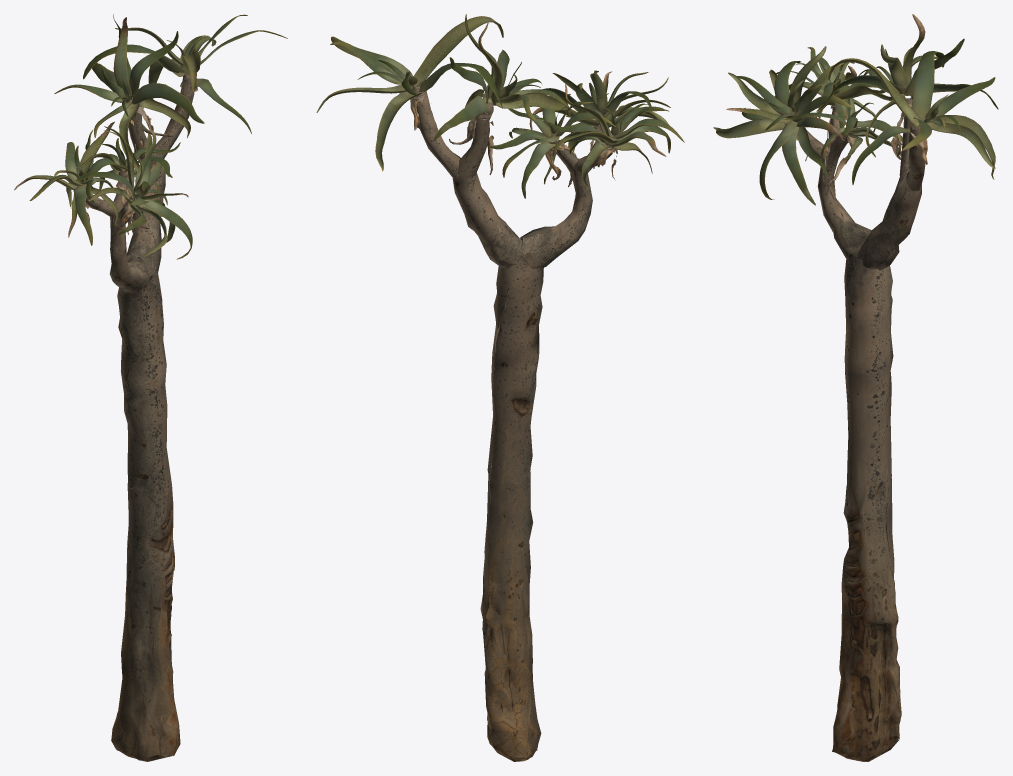
File: quiver_tree_01.glb
The picture shows the model from 3 angles, left to right: view 1: azimuth 30°, elevation 25°; view 2: azimuth 150°, elevation 25°; view 3: azimuth 270°, elevation 25°; orthographic projection. The views are drawn at different scales.
Parts seen in each view (by area): view 1: model; view 2: model; view 3: model.
Part boxes in pixels (left/top/right/bottom): model: left=14, top=14, right=287, bottom=761; model: left=316, top=14, right=684, bottom=761; model: left=713, top=14, right=998, bottom=761.
Size of the model in its own units: 1.18 by 2.71 by 0.9456.
Materials: 2 (2 with a texture image).
